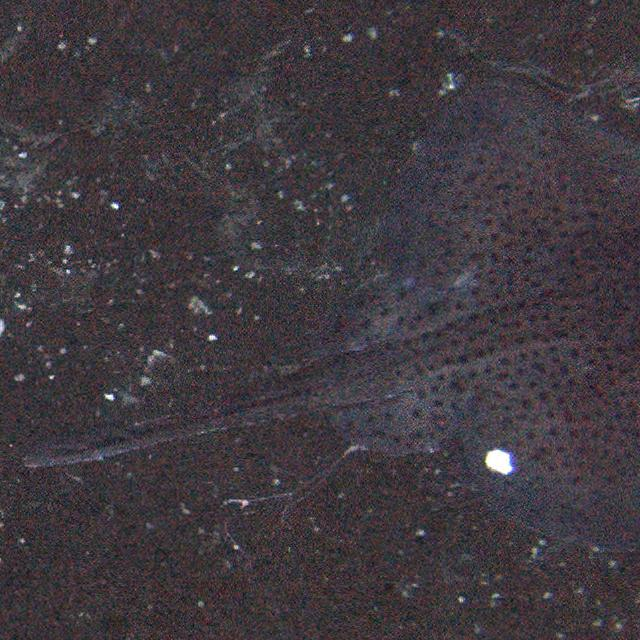skate: (84, 44, 640, 551)
